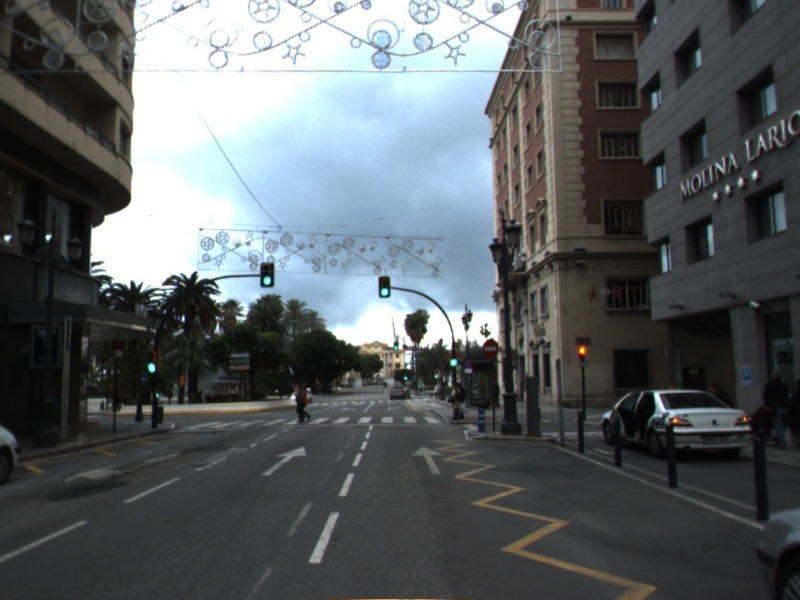STRAIGHT: (259, 444, 309, 477), (408, 445, 445, 477)
STRAIGHT_LEFT: (62, 450, 183, 484)
